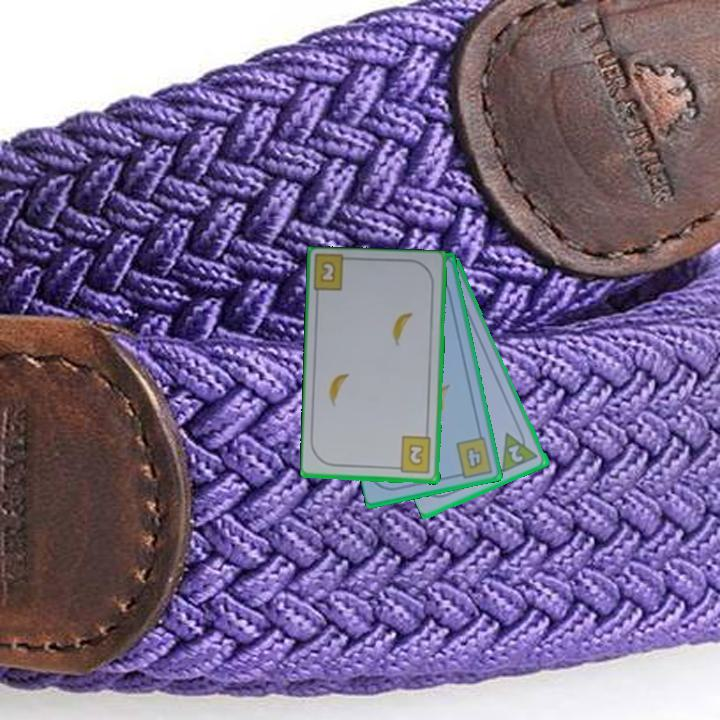2b: (391, 434, 434, 476), (319, 260, 337, 283)
2p: (498, 424, 542, 475)
4b: (452, 434, 496, 481)
